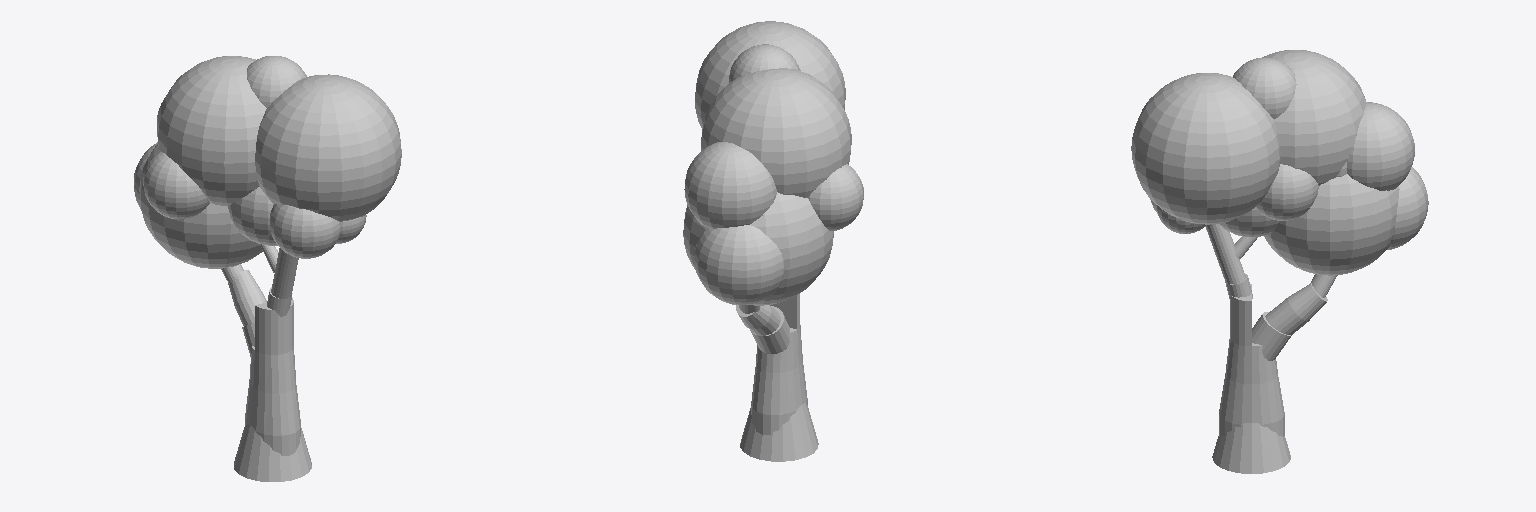
Rendered from TheTreeofMaya.obj.
3 renders of one model, left to right at view 1: azimuth 30°, elevation 25°; view 2: azimuth 150°, elevation 25°; view 3: azimuth 270°, elevation 25°, orthographic.
Visible parts, largest first — view 1: pasted__pasted__pasted__pSphere1 pasted__pasted__group3 pasted__, pasted__pasted__pasted__pasted__pasted__pSphere1 pasted__pasted_, pCylinder1, pasted__pasted__pasted__pasted__pSphere1 pasted__pasted__pasted_, pasted__pSphere1 group3, pasted__pasted__pSphere1 pasted__group3 group8, pCylinder4, pSphere1, pasted__pCylinder2 group1, pCylinder3; view 2: pasted__pasted__pasted__pasted__pasted__pSphere1 pasted__pasted_, pasted__pasted__pasted__pSphere1 pasted__pasted__group3 pasted__, pasted__pasted__pSphere1 pasted__group11 group13, pasted__pSphere1 group11, pasted__pasted__pasted__pasted__pSphere1 pasted__pasted__pasted_, pCylinder1, pCylinder4, pasted__pasted__pSphere1 pasted__group3 group8, pasted__pCylinder2 group1, pCylinder2; view 3: pasted__pasted__pasted__pSphere1 pasted__pasted__group3 pasted__, pasted__pasted__pasted__pasted__pSphere1 pasted__pasted__pasted_, pasted__pasted__pasted__pasted__pasted__pSphere1 pasted__pasted_, pCylinder1, pasted__pasted__pSphere1 pasted__group11 group13, pCylinder4, pasted__pSphere1 group11, pasted__pCylinder2 group1, pCylinder3, pSphere1, pCylinder2, pasted__pasted__pSphere1 pasted__group3 group4.
Boxes of the visible parts, x1=… form: pasted__pasted__pasted__pSphere1 pasted__pasted__group3 pasted__: x1=247, y1=56, x2=401, y2=221; pasted__pasted__pasted__pasted__pasted__pSphere1 pasted__pasted_: x1=157, y1=56, x2=266, y2=206; pCylinder1: x1=245, y1=298, x2=300, y2=455; pasted__pasted__pasted__pasted__pSphere1 pasted__pasted__pasted_: x1=139, y1=144, x2=262, y2=268; pasted__pSphere1 group3: x1=269, y1=204, x2=340, y2=258; pasted__pasted__pSphere1 pasted__group3 group8: x1=143, y1=152, x2=209, y2=219; pCylinder4: x1=234, y1=424, x2=311, y2=481; pSphere1: x1=228, y1=187, x2=277, y2=245; pasted__pCylinder2 group1: x1=228, y1=270, x2=266, y2=325; pCylinder3: x1=271, y1=248, x2=298, y2=298; pasted__pasted__pasted__pasted__pasted__pSphere1 pasted__pasted_: x1=701, y1=68, x2=851, y2=197; pasted__pasted__pasted__pSphere1 pasted__pasted__group3 pasted__: x1=695, y1=21, x2=845, y2=128; pasted__pasted__pSphere1 pasted__group11 group13: x1=684, y1=142, x2=776, y2=228; pasted__pSphere1 group11: x1=694, y1=225, x2=783, y2=304; pasted__pasted__pasted__pasted__pSphere1 pasted__pasted__pasted_: x1=683, y1=192, x2=833, y2=305; pCylinder1: x1=751, y1=294, x2=807, y2=434; pCylinder4: x1=740, y1=403, x2=818, y2=461; pasted__pasted__pSphere1 pasted__group3 group8: x1=808, y1=164, x2=863, y2=230; pasted__pCylinder2 group1: x1=736, y1=305, x2=780, y2=335; pCylinder2: x1=750, y1=306, x2=789, y2=353; pasted__pasted__pasted__pSphere1 pasted__pasted__group3 pasted__: x1=1131, y1=57, x2=1296, y2=224; pasted__pasted__pasted__pasted__pSphere1 pasted__pasted__pasted_: x1=1256, y1=164, x2=1399, y2=275; pasted__pasted__pasted__pasted__pasted__pSphere1 pasted__pasted_: x1=1262, y1=50, x2=1366, y2=185; pCylinder1: x1=1219, y1=284, x2=1284, y2=436; pasted__pasted__pSphere1 pasted__group11 group13: x1=1347, y1=102, x2=1414, y2=190; pCylinder4: x1=1212, y1=423, x2=1290, y2=473; pasted__pSphere1 group11: x1=1387, y1=167, x2=1428, y2=249; pasted__pCylinder2 group1: x1=1265, y1=283, x2=1327, y2=334; pCylinder3: x1=1205, y1=224, x2=1245, y2=283; pSphere1: x1=1219, y1=207, x2=1278, y2=237; pCylinder2: x1=1252, y1=312, x2=1291, y2=360; pasted__pasted__pSphere1 pasted__group3 group4: x1=1156, y1=205, x2=1205, y2=233.
Size of the model in its own units: 14.48 by 27.74 by 18.68.